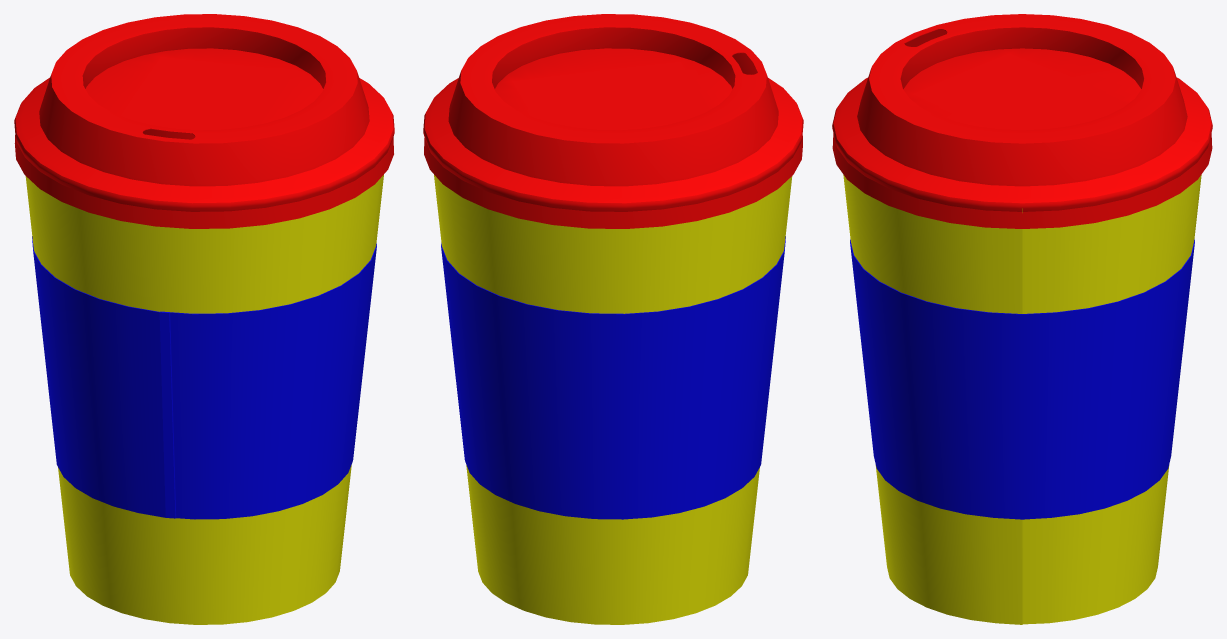
The model's file is paper_cup_imprint.glb.
3 renders of one model, left to right at view 1: azimuth 30°, elevation 25°; view 2: azimuth 150°, elevation 25°; view 3: azimuth 270°, elevation 25°, orthographic.
Parts seen in each view (by area): view 1: Paper_Cup; view 2: Paper_Cup; view 3: Paper_Cup.
Boxes of the visible parts, box(x1,y1,x2,y2) form: Paper_Cup: box(14, 14, 394, 624); Paper_Cup: box(423, 14, 803, 624); Paper_Cup: box(832, 14, 1212, 624).
Bounding box in the file's own units: 0.0918 × 0.1301 × 0.0918.
